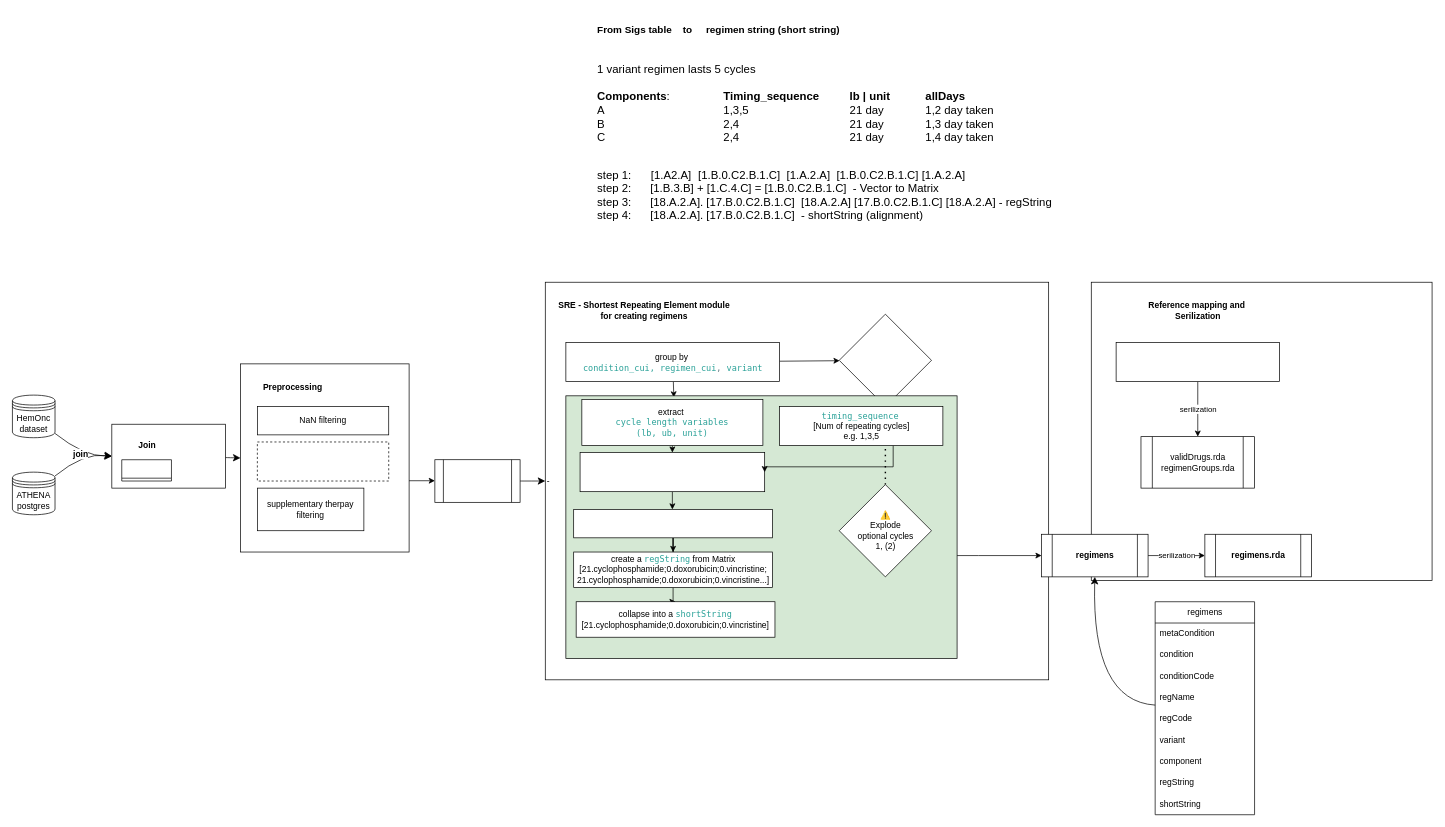
This 1445x827 diagram has some shape labels left out. The shapes that lost their labels are listed below. From the top down, each one's centre as x and y in pixels, then its label:
point 885,359: ⚠️ Skipping group with key None
point 1197,362: Valid Drugs and RegimenGrouping
point 146,470: SIGS
point 323,461: Unhandled cases logging and filtering
point 477,480: pre-proc sigs
point 672,472: extract allDays info [1,2,3,4...21]
point 672,523: build component Vector [21.cyclophosphamide]
